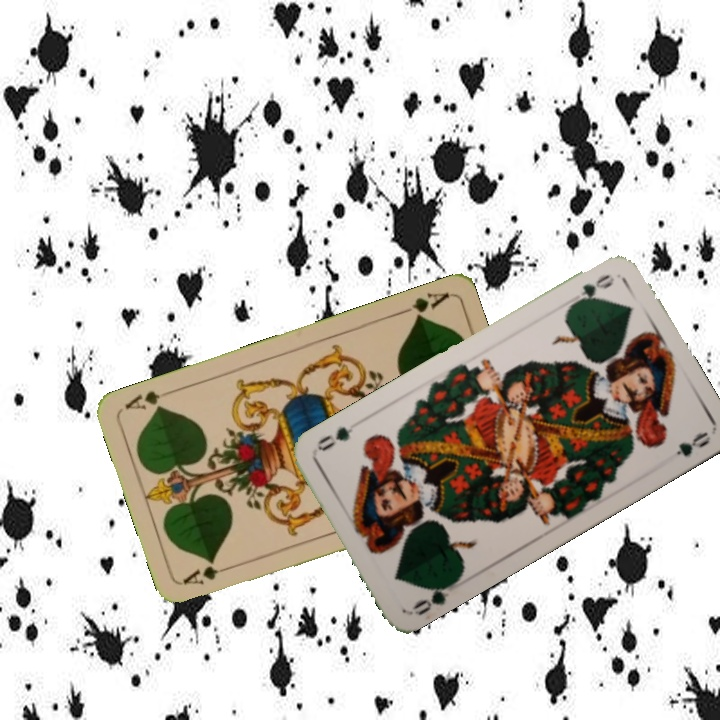GA: (394, 288, 451, 323), (179, 560, 237, 588)
GO: (407, 577, 460, 619), (566, 270, 618, 311)
